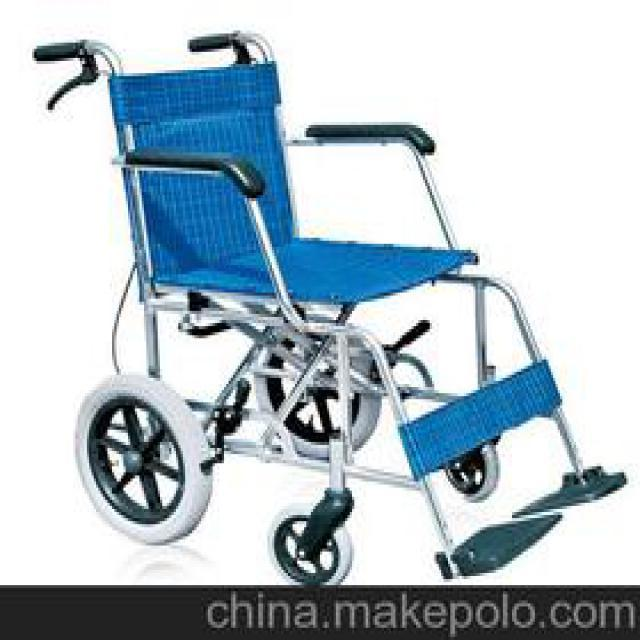wheelchair: (25, 21, 631, 582)
